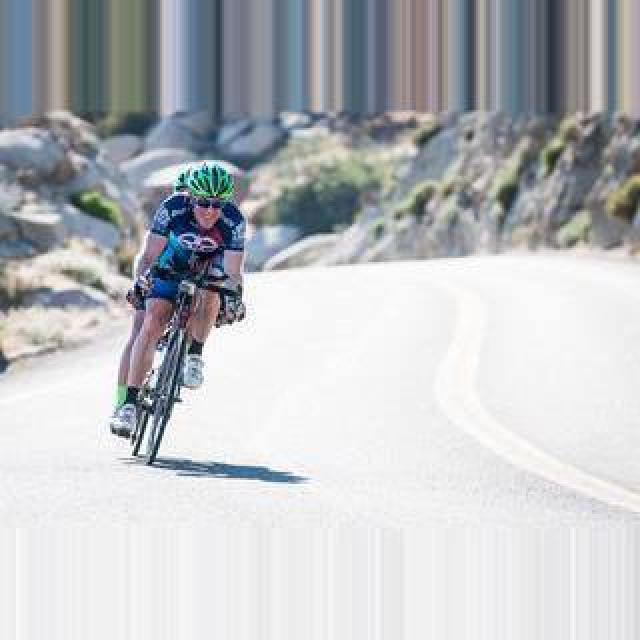MC-Bike: (106, 156, 248, 446)
Person: (128, 275, 208, 465)
